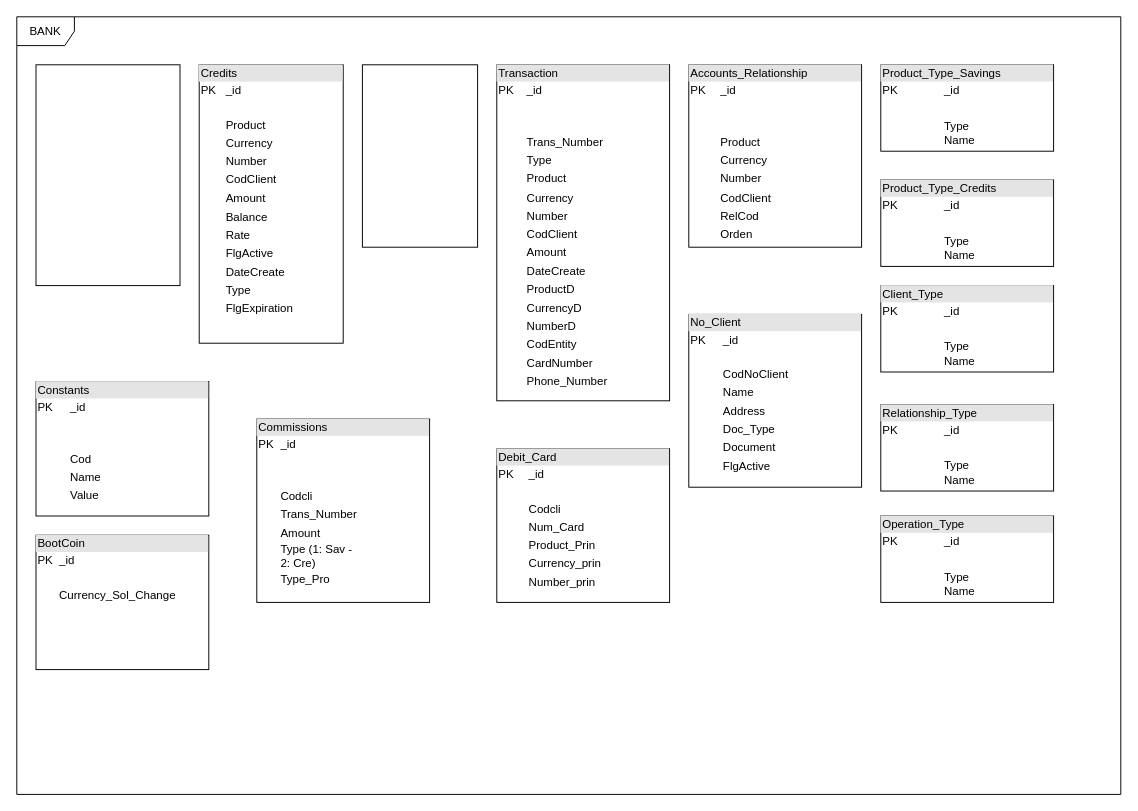
Image size: 1138x811. Some labels were removed from this diagram. Here are the shapes that lost their labels. From the top down, the box of each, then its label:
(35, 64, 180, 286): Savings PK _id Product Currency Number Amount Rate FlgActive DateCreate Type
(361, 64, 478, 247): Clients PK _id CodClient Name Address Document FlgActive Type
